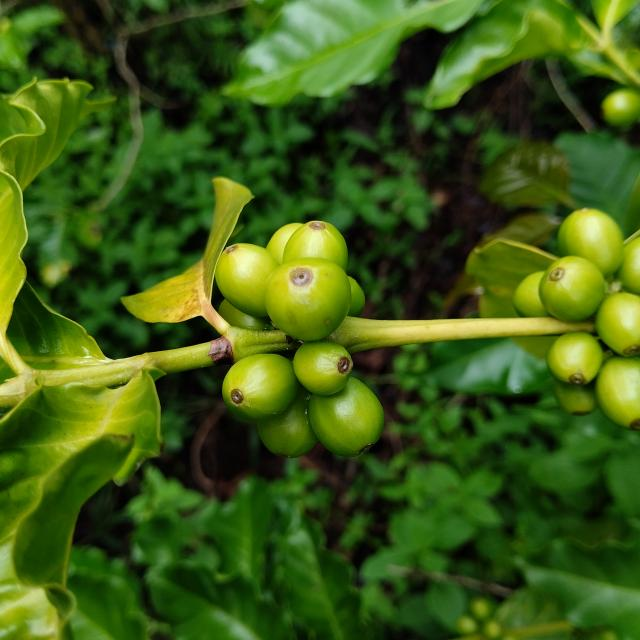green: (264, 258, 351, 341), (309, 377, 384, 458), (222, 354, 300, 421), (215, 244, 280, 317), (559, 208, 625, 277), (540, 256, 606, 321), (293, 340, 353, 396), (282, 220, 348, 270), (596, 357, 640, 431), (548, 332, 604, 386), (596, 292, 640, 356), (513, 271, 550, 317), (218, 299, 269, 331), (554, 380, 598, 416), (266, 222, 303, 264), (619, 236, 640, 294), (348, 276, 366, 317)
